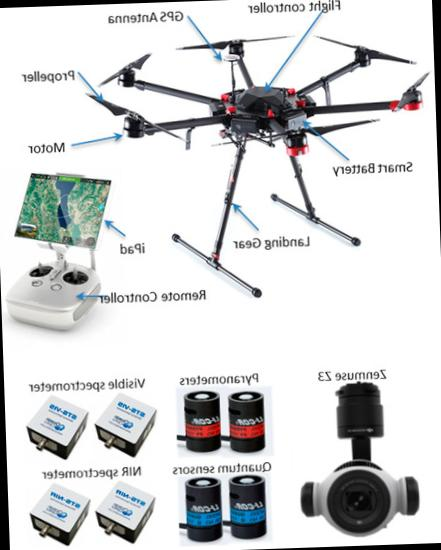drone: (64, 24, 424, 202)
